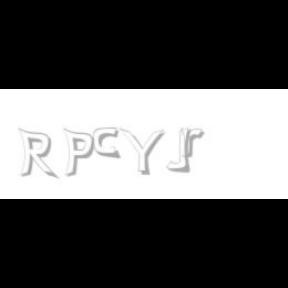J: (166, 128, 190, 172)
P: (63, 128, 95, 178)
R: (18, 128, 56, 180)
Y: (119, 128, 165, 176)
c: (92, 128, 122, 160)
r: (180, 128, 208, 158)
